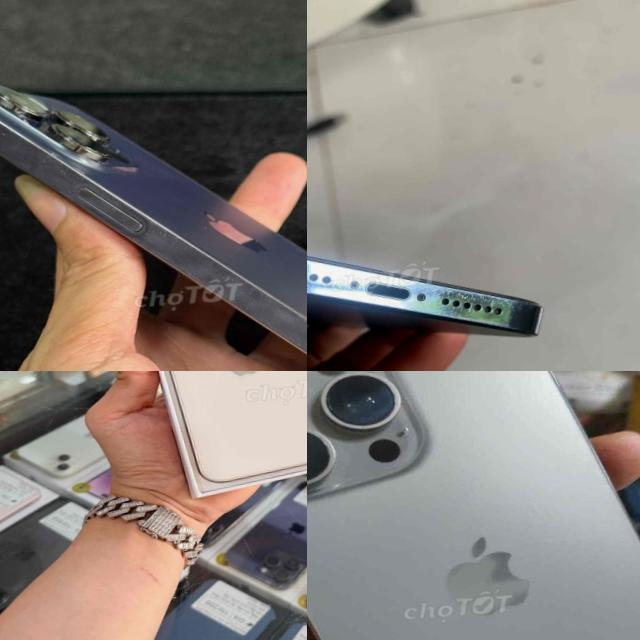gen_12_13: (307, 197, 551, 371), (146, 371, 307, 489)
gen_14: (0, 31, 307, 371)
gen_15: (307, 371, 640, 640)
scratch: (307, 204, 530, 359), (307, 371, 411, 498), (127, 214, 209, 258), (26, 144, 95, 194), (219, 269, 300, 310), (0, 99, 28, 149)
